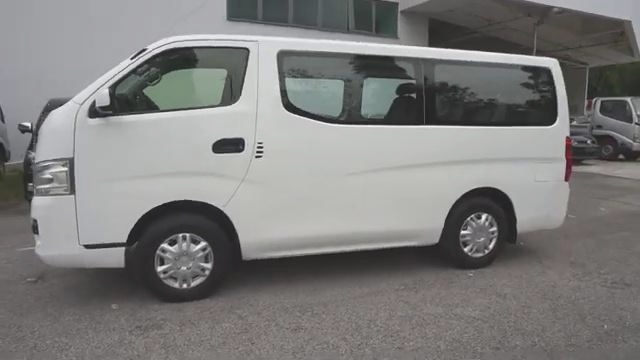van: (26, 35, 571, 296)
